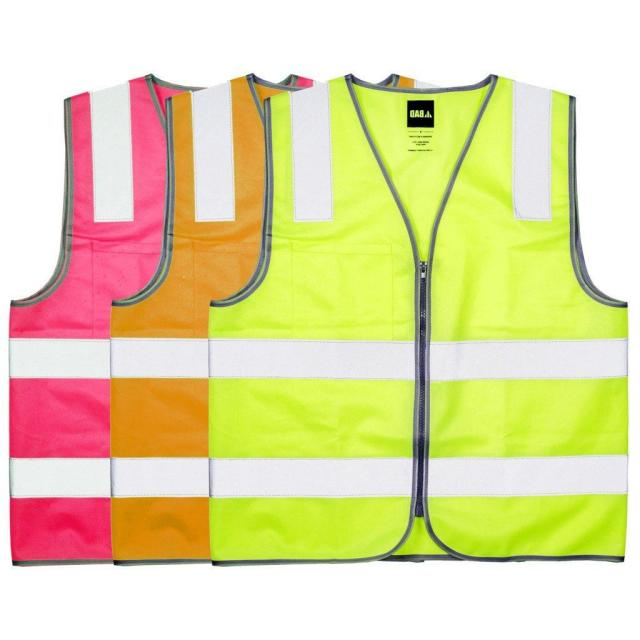Reflective-Jacket: (18, 58, 638, 570)
